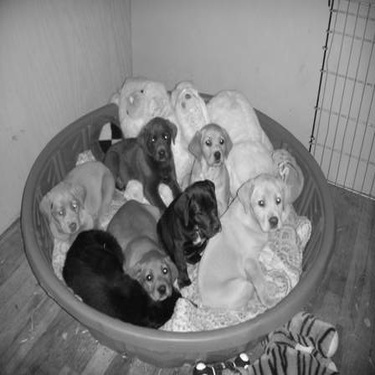dog: (174, 169, 286, 317), (58, 225, 200, 337), (103, 72, 213, 150), (100, 115, 184, 212), (37, 155, 117, 248), (156, 178, 222, 290), (108, 198, 178, 303), (189, 121, 237, 216)
